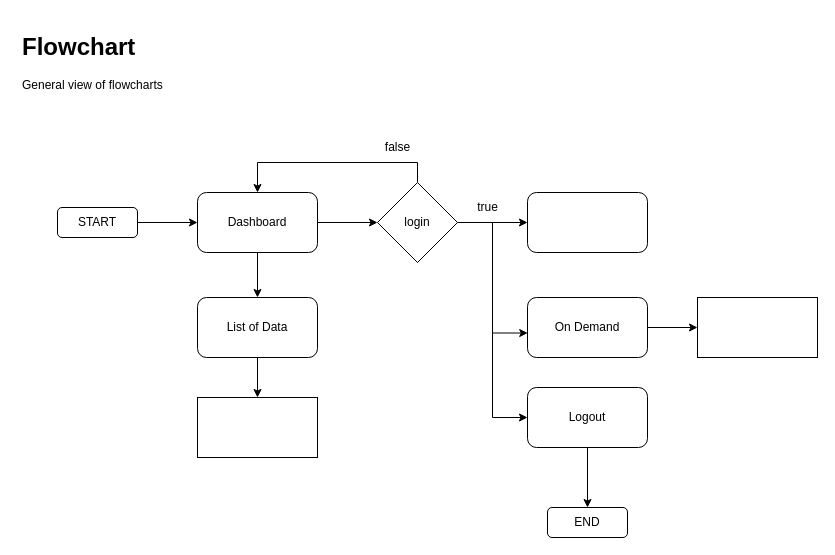
Some shapes in this 835 by 555 pixel diagram are drawn without their labels. Each missing label, with the centre of its shape:
add,edit,remove: point (757, 327)
Branch: point (587, 222)
search(): point (257, 427)
